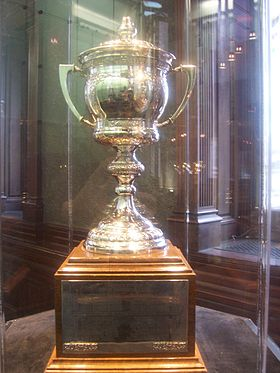trophy: (42, 14, 211, 373)
